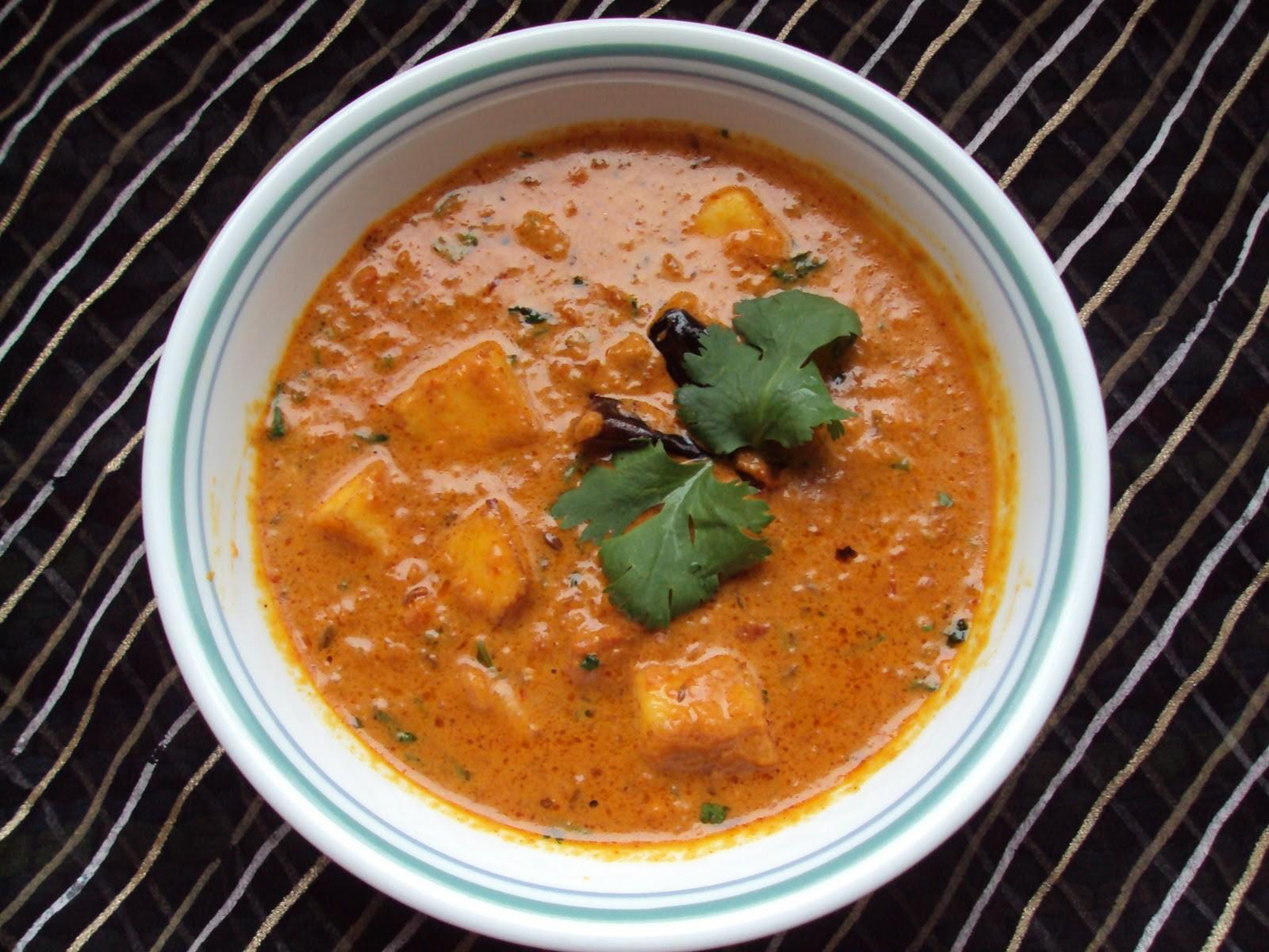ShahiPaneer: (245, 115, 989, 840)
